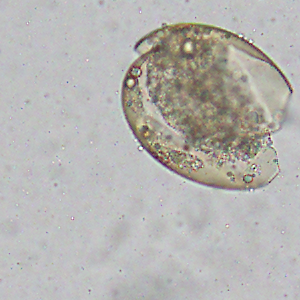Fasciola_hepatica_egg: (118, 21, 293, 192)
